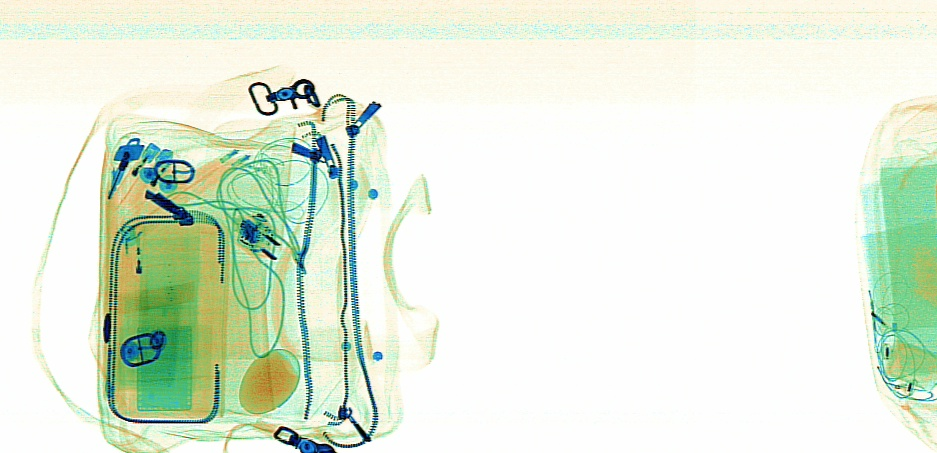lighter: (103, 141, 162, 209), (123, 147, 172, 214), (116, 223, 146, 314)
